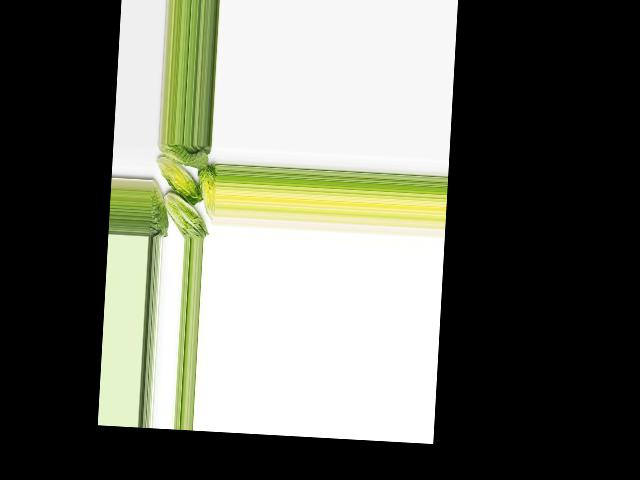lettuce: (158, 142, 211, 171)
